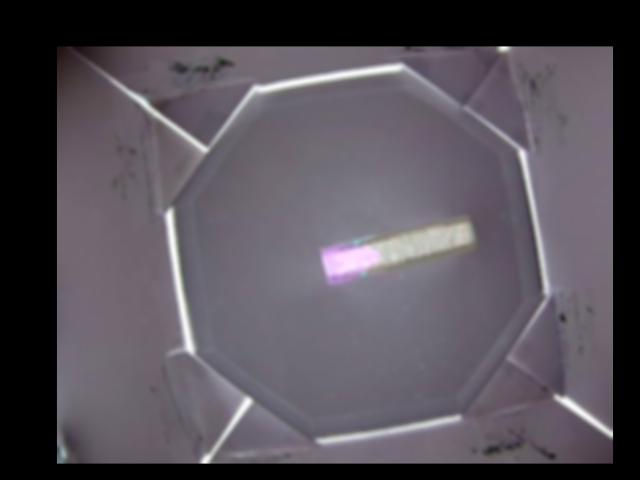Bottle: (318, 212, 479, 289)
